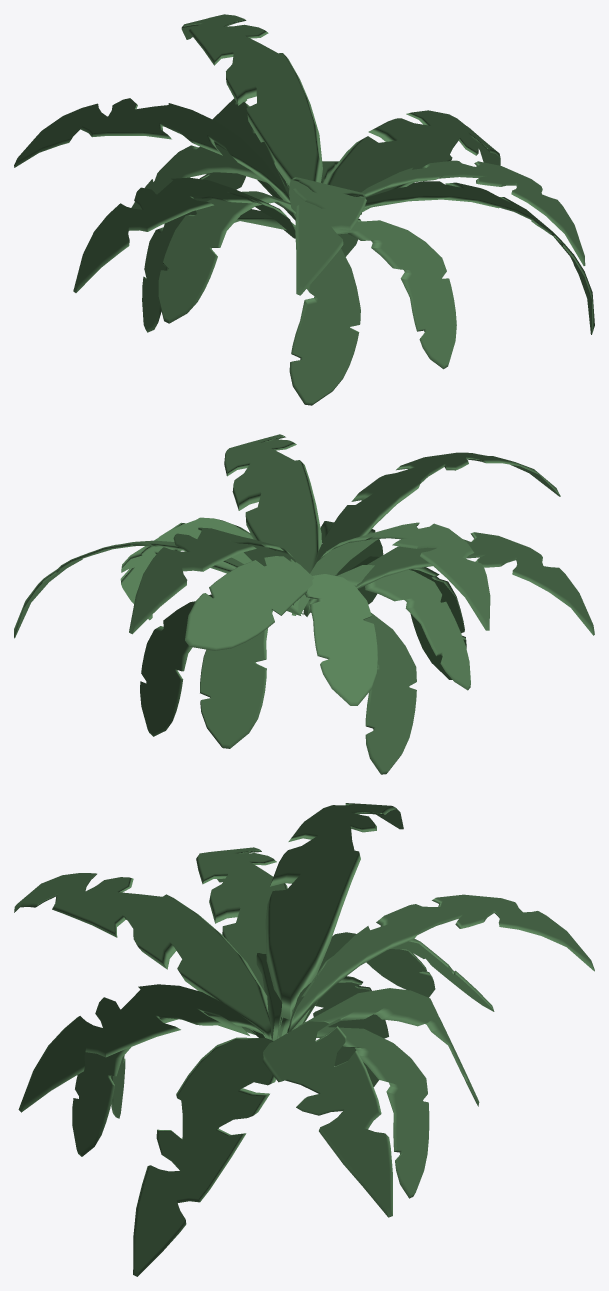
Rendered from fol_palm_bush_01_uv.fbx.
3 renders of one model, top to bottom at view 1: azimuth 30°, elevation 25°; view 2: azimuth 150°, elevation 25°; view 3: azimuth 270°, elevation 25°, orthographic. The views are drawn at different scales.
Parts seen in each view (by area): view 1: Palm_bush_01_uv1; view 2: Palm_bush_01_uv1; view 3: Palm_bush_01_uv1.
Boxes of the visible parts, x1,y1,x2,y2 form: Palm_bush_01_uv1: (14, 14, 594, 405); Palm_bush_01_uv1: (14, 434, 594, 774); Palm_bush_01_uv1: (14, 803, 594, 1276).
Bounding box in the file's own units: 23.03 × 10.78 × 21.49.
